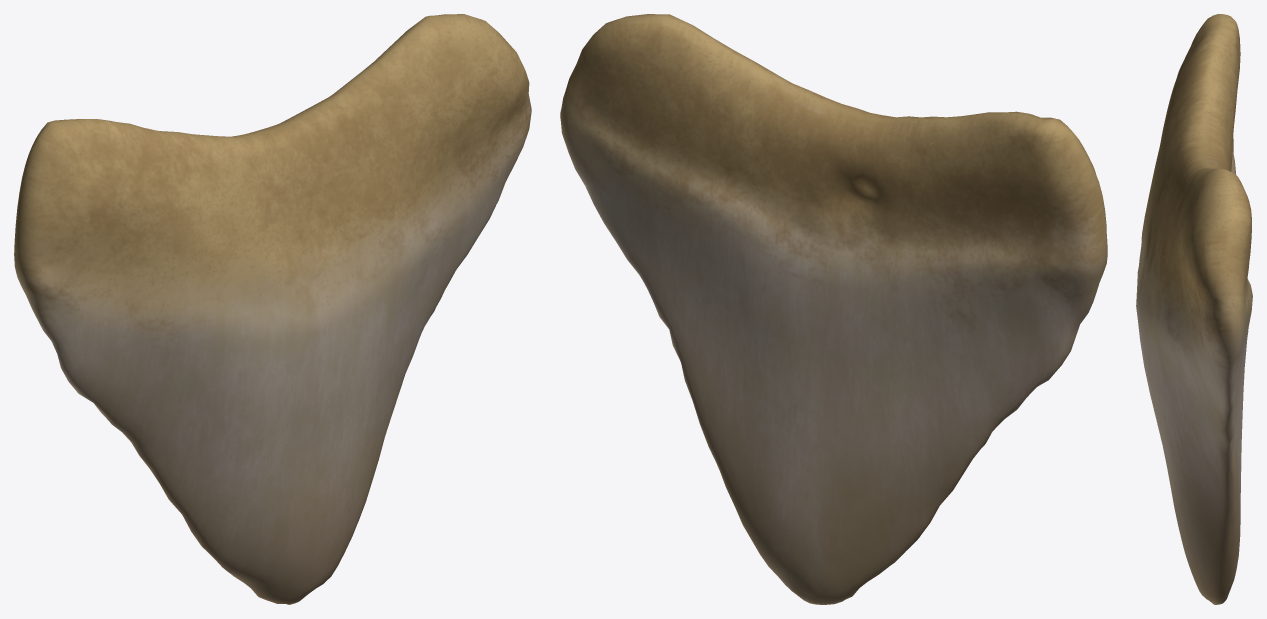
File: TOOTH.fbx
The picture shows the model from 3 angles, left to right: view 1: azimuth 30°, elevation 25°; view 2: azimuth 150°, elevation 25°; view 3: azimuth 270°, elevation 25°; orthographic projection. The views are drawn at different scales.
Parts seen in each view (by area): view 1: Shark_Tooth; view 2: Shark_Tooth; view 3: Shark_Tooth.
Boxes of the visible parts, x1=… form: Shark_Tooth: x1=14, y1=14, x2=531, y2=604; Shark_Tooth: x1=560, y1=14, x2=1107, y2=604; Shark_Tooth: x1=1136, y1=14, x2=1252, y2=604.
Bounding box in the file's own units: 16.81 × 16.81 × 3.59.
Materials: 1 (1 with a texture image).
